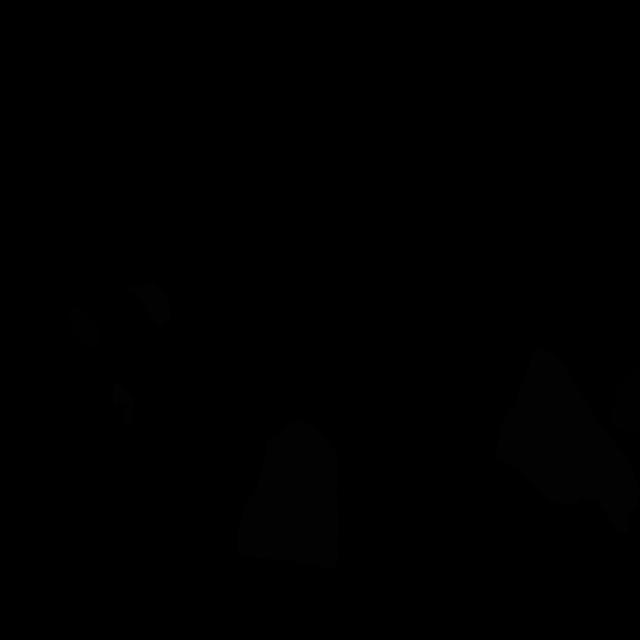cardboard: (496, 344, 640, 534), (236, 420, 339, 569), (126, 282, 171, 326), (112, 380, 134, 425)
rigid_plastic: (610, 355, 640, 432), (67, 306, 101, 348)
